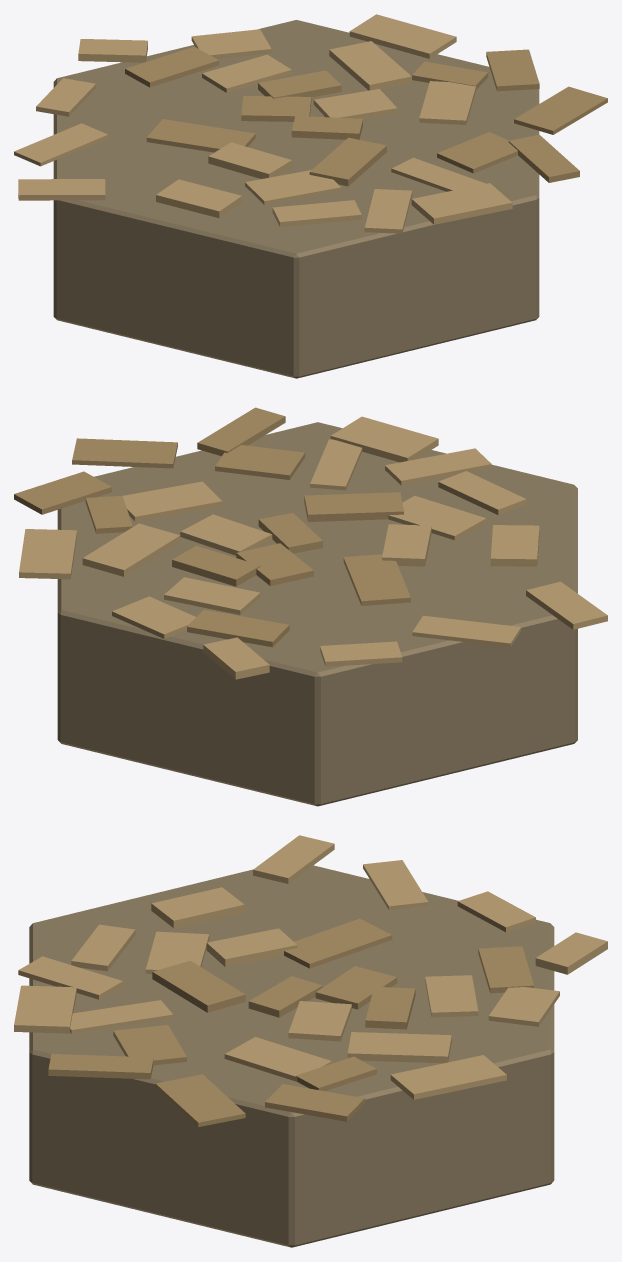
File: tijolo-hex-c.glb
3 renders of one model, top to bottom at view 1: azimuth 30°, elevation 25°; view 2: azimuth 150°, elevation 25°; view 3: azimuth 270°, elevation 25°, orthographic. The views are drawn at different scales.
Parts seen in each view (by area): view 1: TijoloHexC; view 2: TijoloHexC; view 3: TijoloHexC.
Boxes of the visible parts, box(x1,y1,x2,y2) form: TijoloHexC: box(14, 14, 607, 378); TijoloHexC: box(14, 407, 607, 806); TijoloHexC: box(14, 835, 607, 1247).
Size of the model in its own units: 2.23 by 0.5224 by 1.96.
